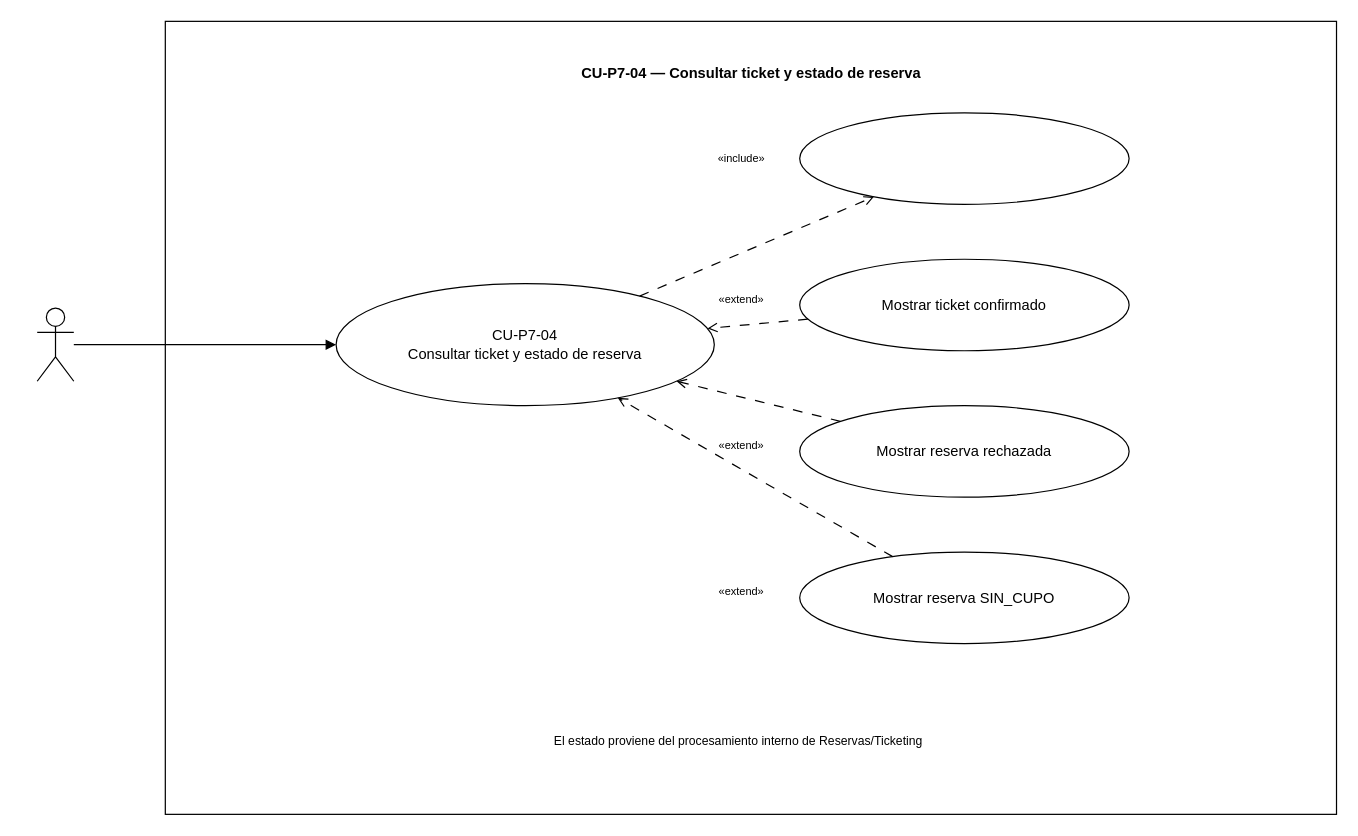
Some shapes in this 1358 by 836 pixel diagram are drawn without their labels. Here are the shapes that lost their labels. From the top down, the centre of each, then its label:
At (x=963, y=158): "Consultar estado de reserva".
At (x=55, y=344): "Estudiante".
